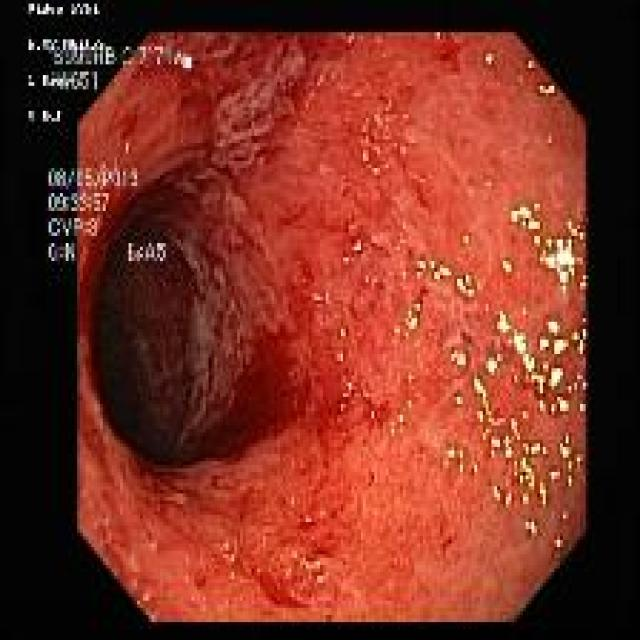ulcerative-colitis: (72, 33, 589, 622)
